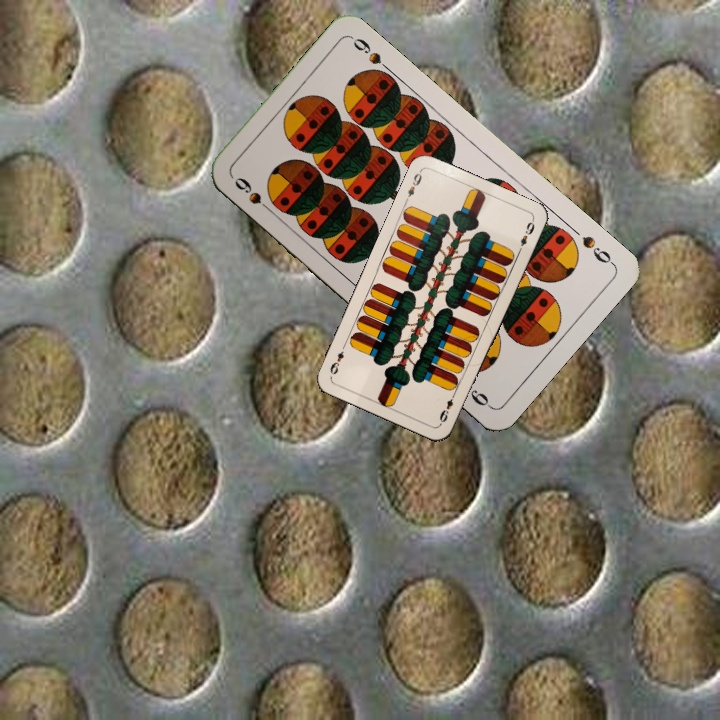E9: (401, 167, 425, 205), (435, 388, 458, 427)
S9: (230, 173, 277, 217), (578, 231, 617, 268)
